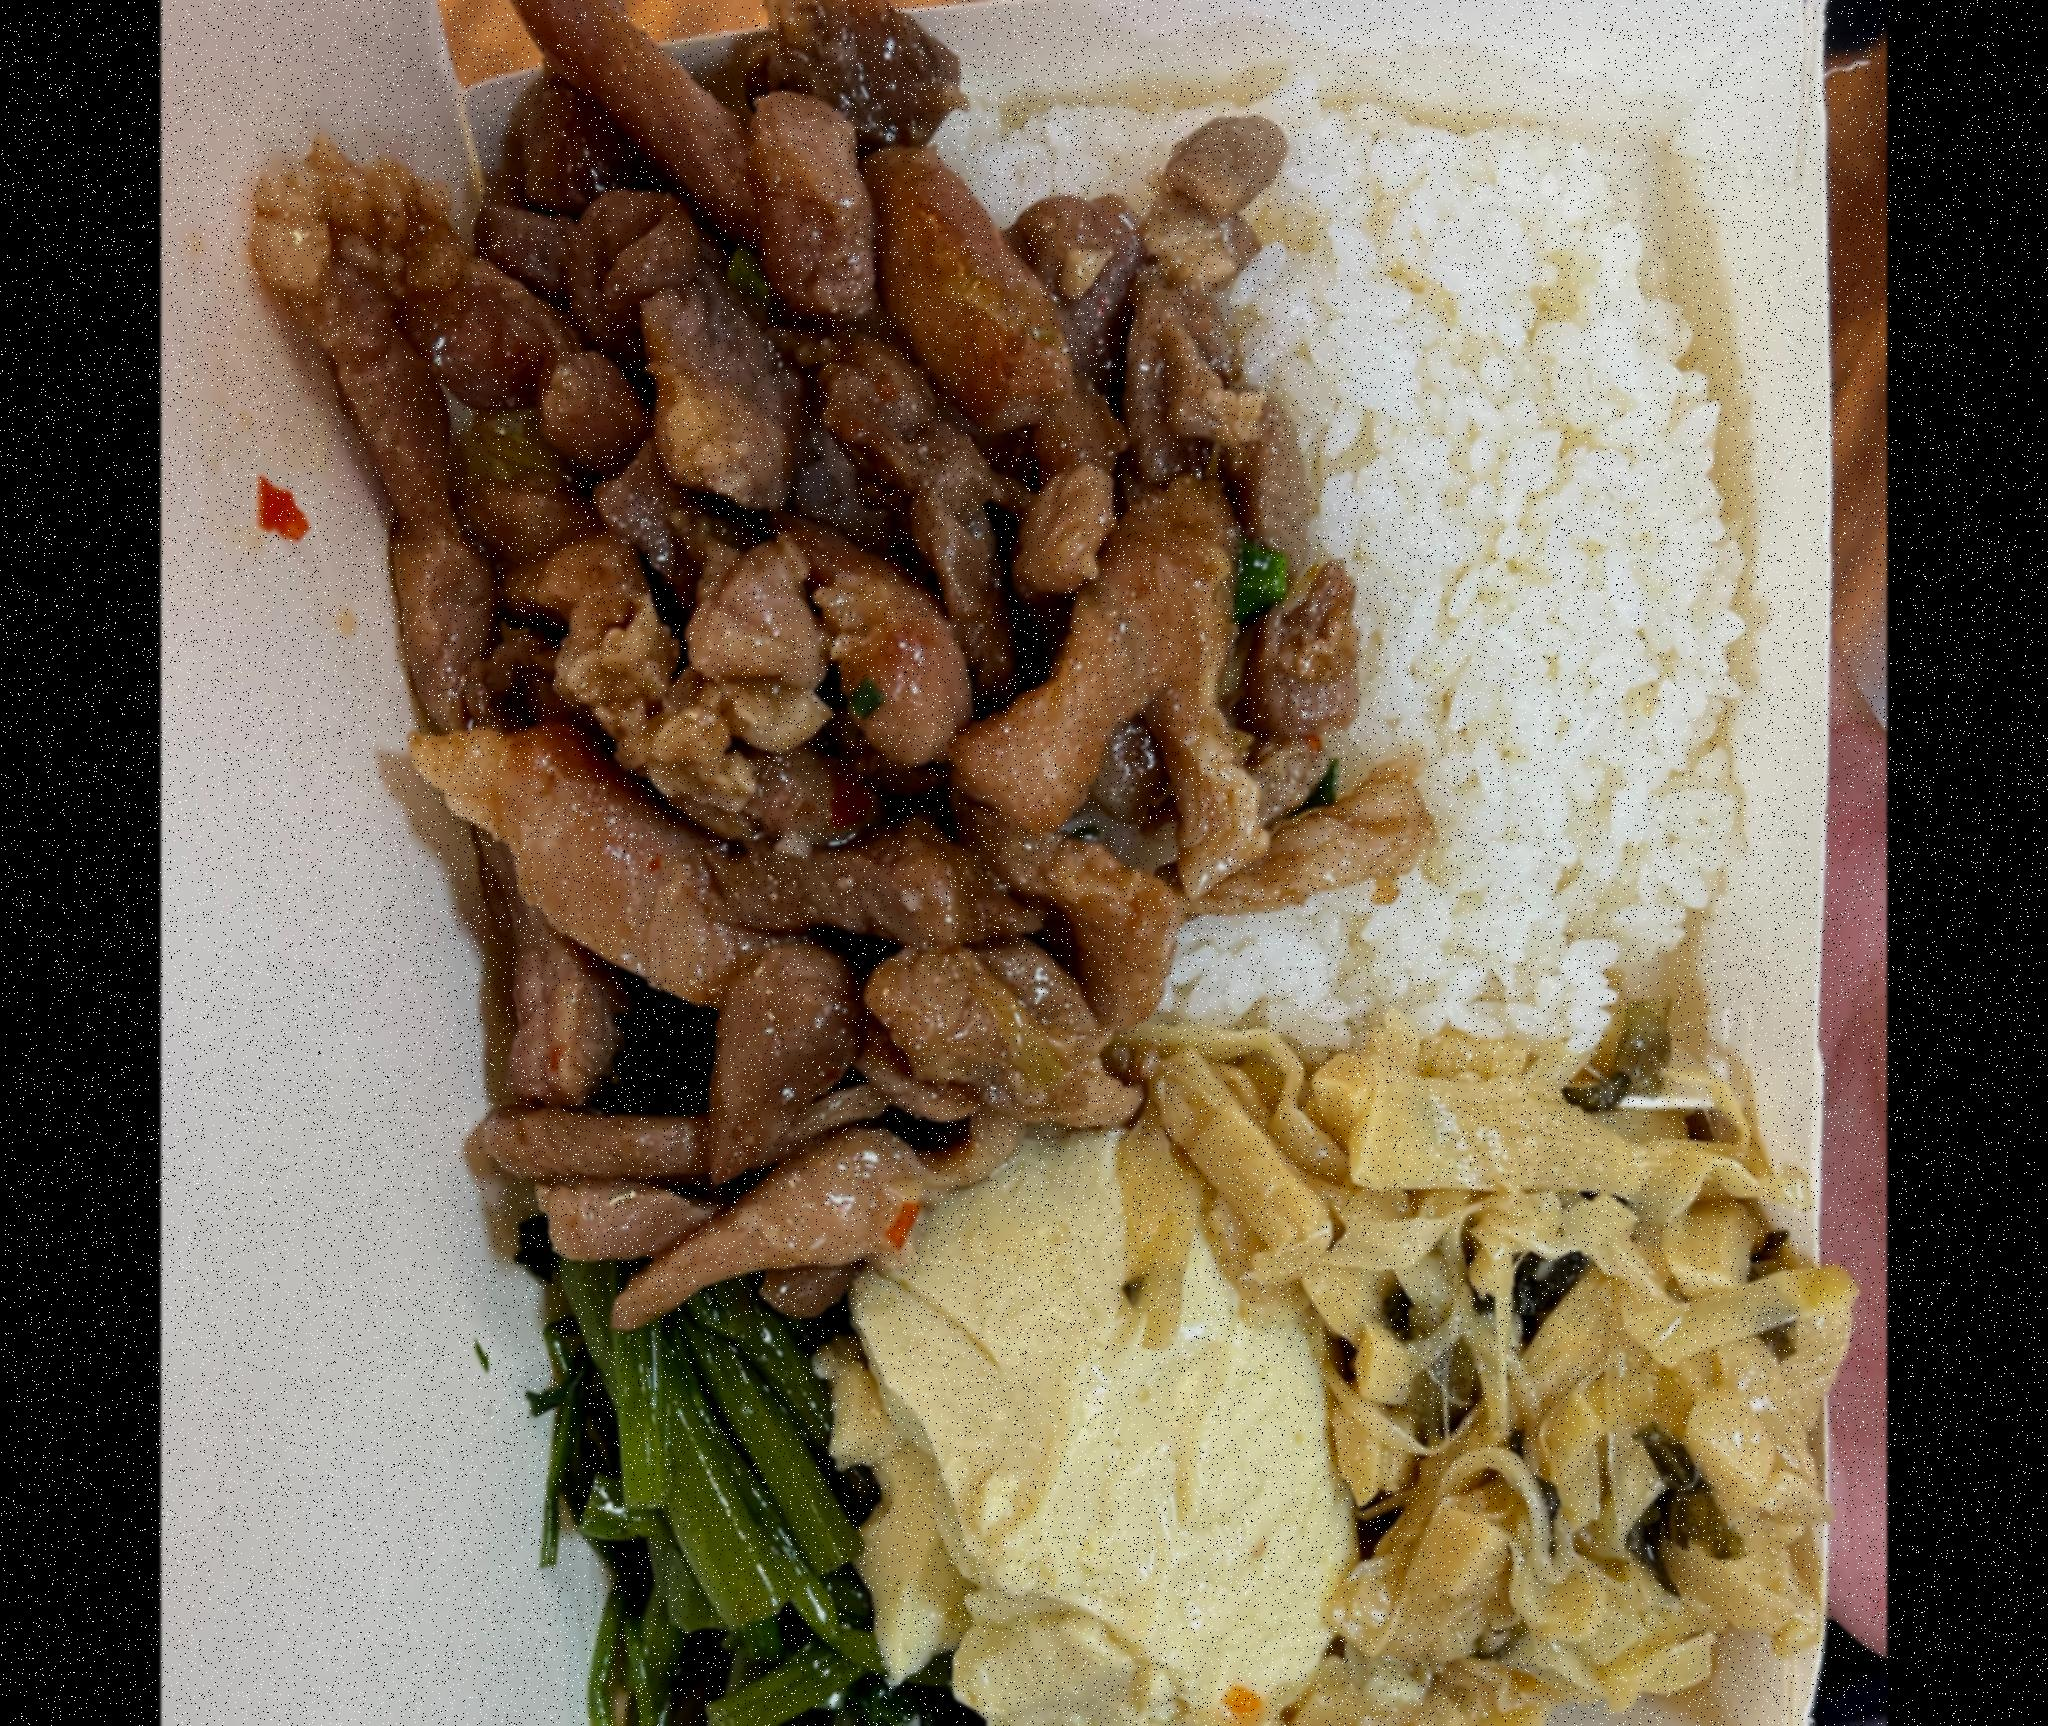box: (342, 0, 1872, 1726)
shacha pork: (259, 0, 1329, 1286)
side dish: (1301, 1046, 1805, 1726), (870, 1140, 1339, 1726), (514, 1245, 956, 1726)
white rice: (937, 98, 1764, 1089)
